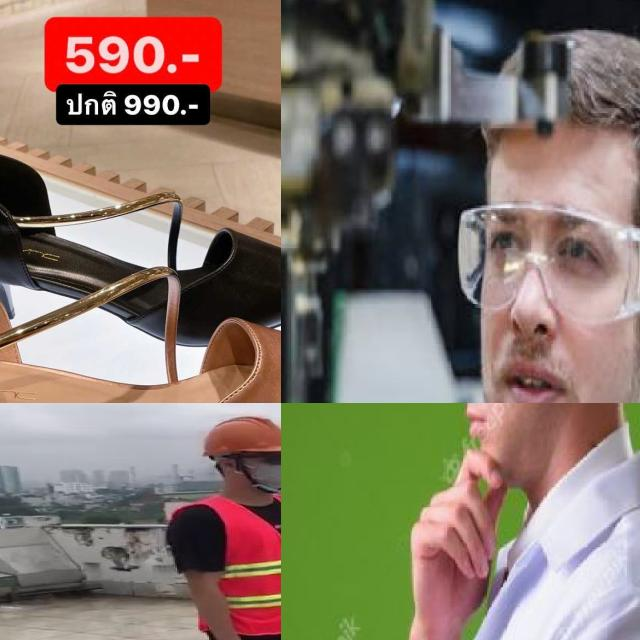Sandals: (0, 111, 281, 356), (0, 254, 281, 403)
face_nomask: (479, 203, 618, 403), (430, 403, 521, 453)
glasses: (456, 200, 640, 328)
hand_noglove: (402, 447, 512, 593)
head_helmet: (196, 413, 281, 454)
head_nohelmet: (471, 18, 640, 163)
person: (398, 27, 640, 403), (379, 403, 640, 640), (147, 408, 281, 640)
vest: (177, 502, 281, 636)
